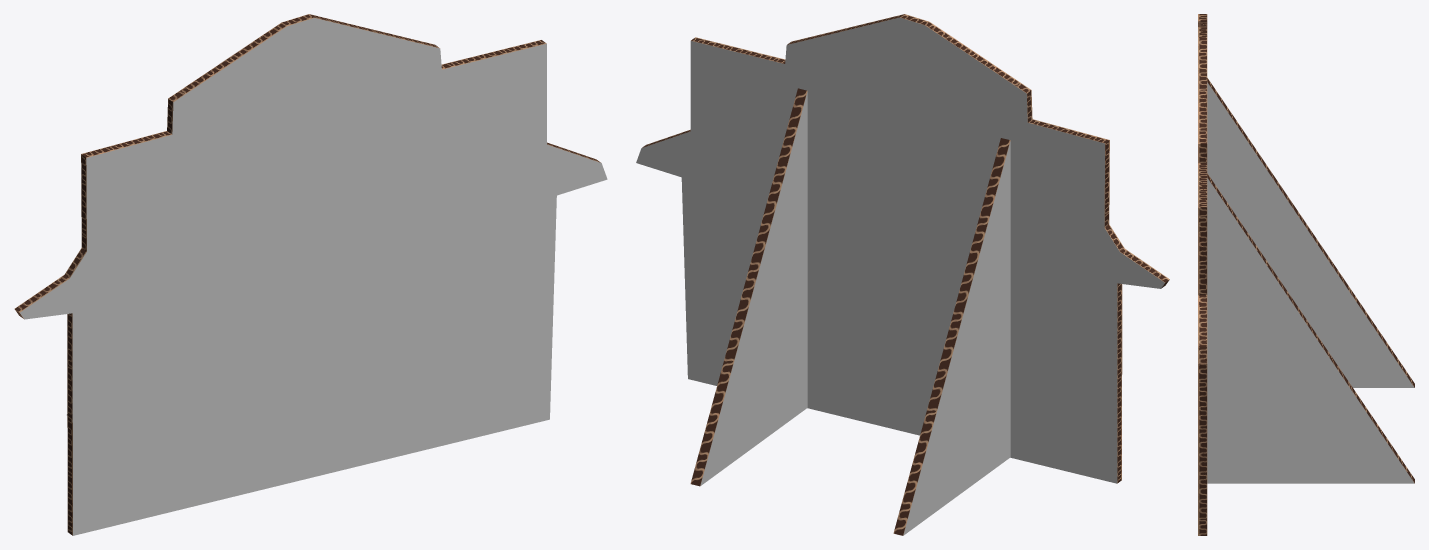
The model's file is Sheriff.fbx.
The picture shows the model from 3 angles, left to right: view 1: azimuth 30°, elevation 25°; view 2: azimuth 150°, elevation 25°; view 3: azimuth 270°, elevation 25°; orthographic projection. The views are drawn at different scales.
Parts seen in each view (by area): view 1: Sheriff_LOD0; view 2: Sheriff_LOD0; view 3: Sheriff_LOD0.
Part boxes in pixels (bbox=[...]): Sheriff_LOD0: bbox=[14, 14, 607, 535]; Sheriff_LOD0: bbox=[636, 14, 1169, 535]; Sheriff_LOD0: bbox=[1198, 14, 1414, 535].
Size of the model in its own units: 1507 by 1124 by 554.
